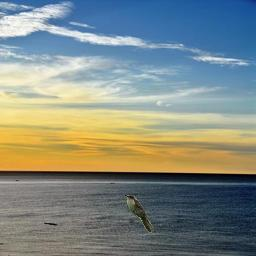Cuckoo: (124, 194, 154, 233)
